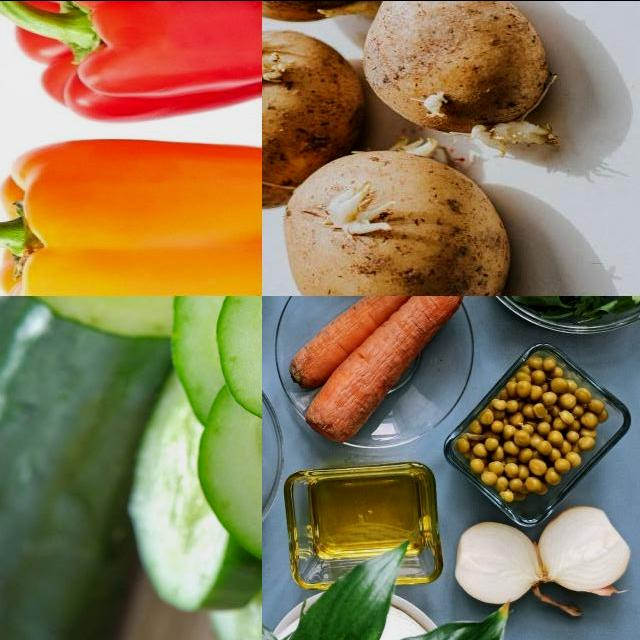bell_pepper: (1, 140, 263, 296), (1, 1, 263, 122)
carrot: (306, 365, 384, 445), (383, 296, 464, 352)
cucumber: (1, 296, 242, 640)
onion: (545, 508, 632, 594), (455, 527, 544, 604)
potato: (282, 151, 510, 296), (365, 1, 555, 134), (263, 31, 359, 208)
